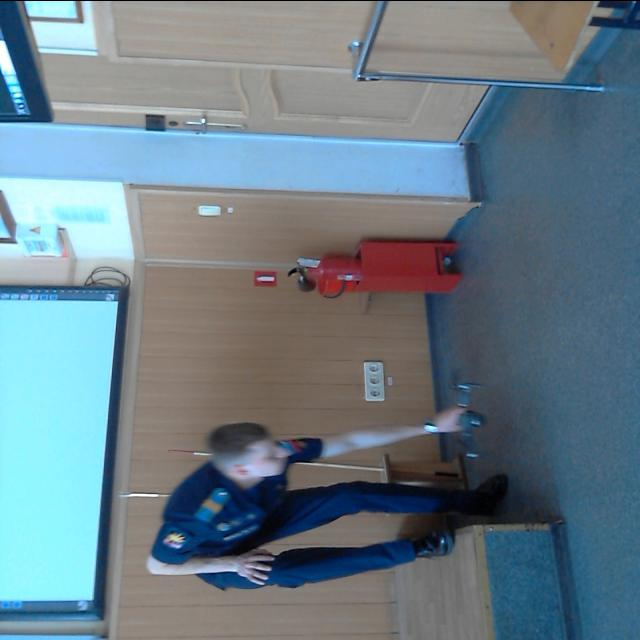drone: (439, 371, 495, 473)
